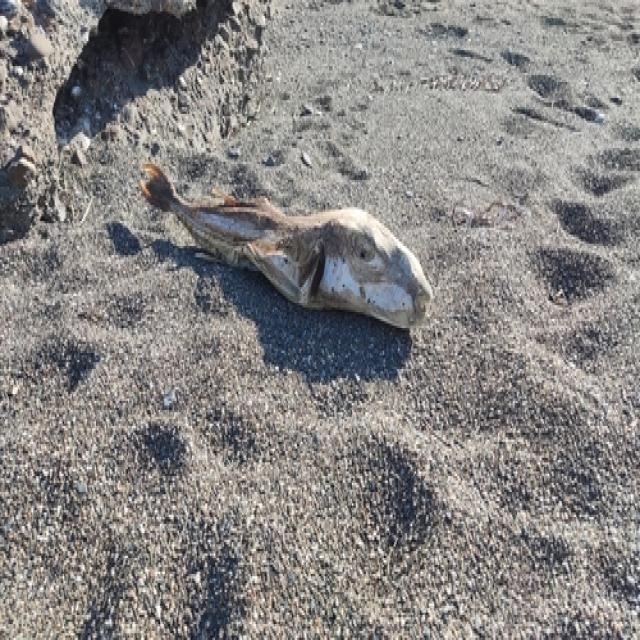Balik: (141, 162, 432, 327)
